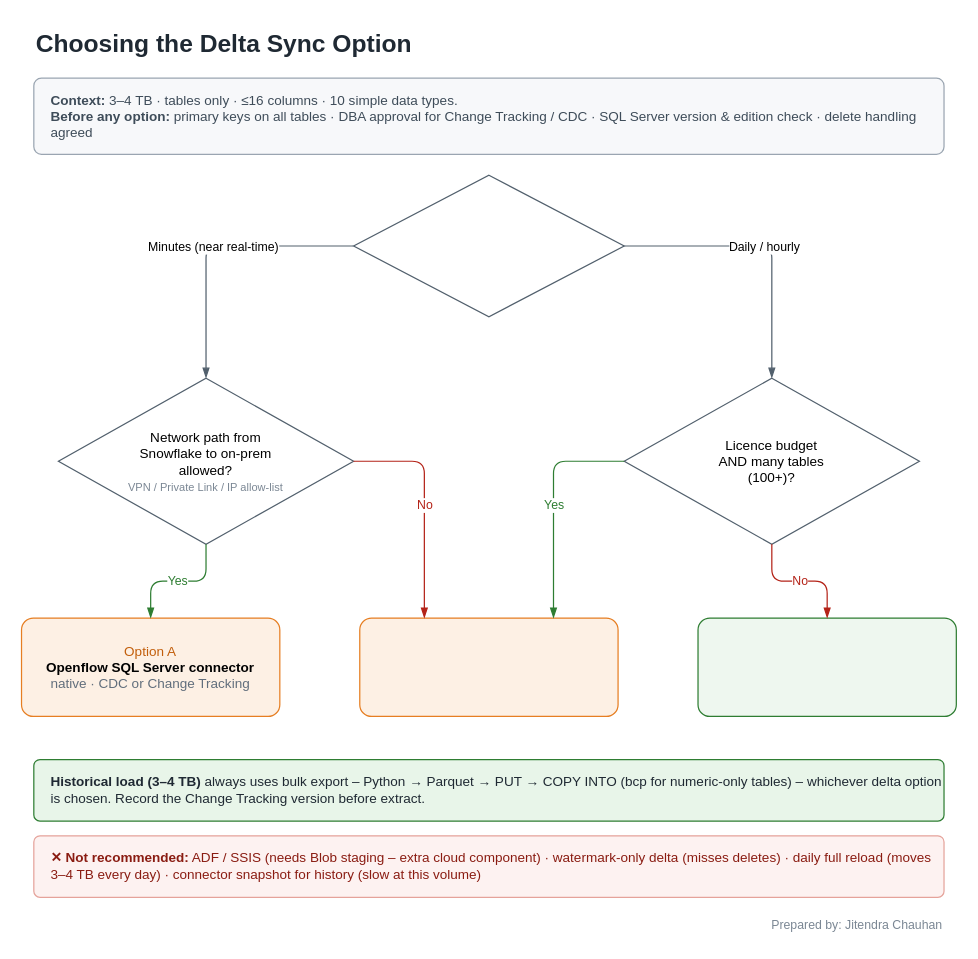
This 978x959 diagram has some shape labels left out. Here are the shapes that lost their labels. From the top down, the centre of each, then its label:
At [488,245]: "How fresh must delta data be?".
At [488,666]: "Option C Fivetran/HVR · Qlik Replicate agent inside network, outbound only".
At [826,666]: "★ Option B · RECOMMENDED Python + Airflow Change Tracking → stage → MERGE".
